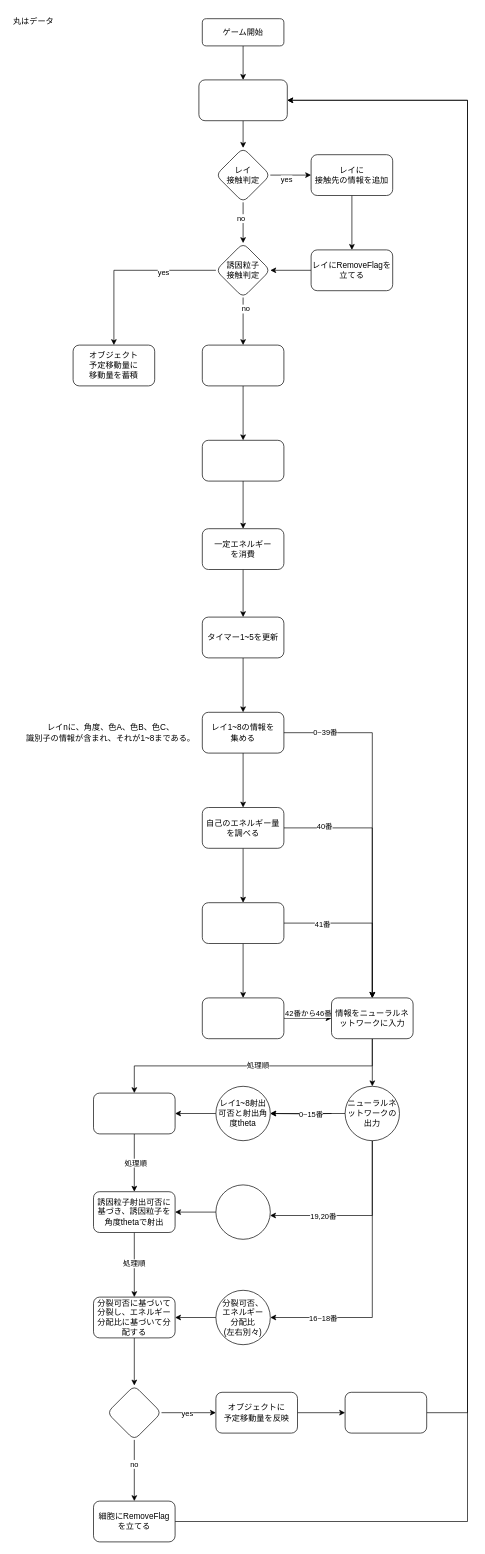
This 485x1554 diagram has some shape labels left out. The shapes that lost their labels are listed below. From the top down, each one's box as (x1, y1, x2, y2) in pixels, then its label:
(198, 79, 287, 121): エネルギープールから 食料を生成
(202, 344, 284, 386): 細胞間斥力を計算
(202, 440, 284, 481): 接触物体から エネルギー吸収
(202, 902, 284, 944): 自己の位置変位を 調べる
(202, 997, 284, 1039): 時計1~5の状態を 調べる
(93, 1092, 175, 1134): レイ1~8射出可否に基づきレイを角度thetaで射出
(215, 1184, 270, 1239): 誘因粒子射出可否と 射出角度theta
(106, 1385, 162, 1440): エネルギー がある
(344, 1392, 427, 1433): 統計情報を出力
